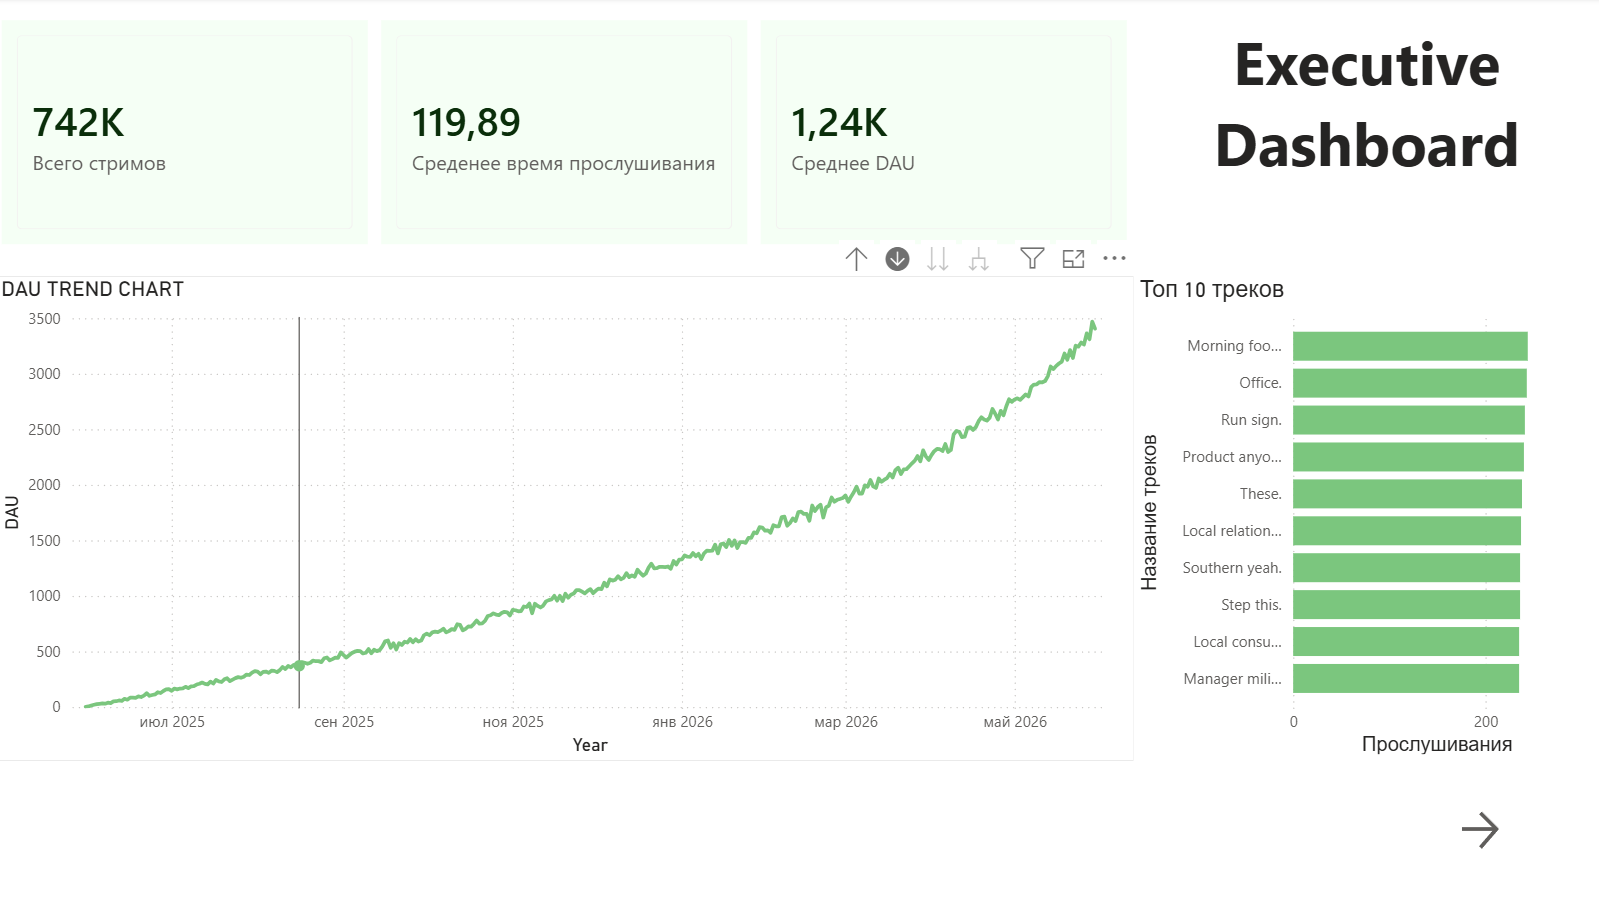

Layout of this report page (visuals, bound fields, positions):
{"tool":"powerbi","page":{"name":"Executive Dashboard","canvas":[1280,720],"ordinal":0},"visuals":[{"type":"cardVisual","fields":{"Data":["ab_test.Total Streams"]},"box":[0,13.2,302.7,189],"z":0},{"type":"cardVisual","fields":{"Data":["Avg(daily_metrics.avg_listen_duration)"]},"box":[302.7,13.2,302.7,189],"z":1000},{"type":"cardVisual","fields":{"Data":["Avg(dau.daily_active_users)"]},"box":[605.3,13.2,302.7,189],"z":2000},{"type":"lineChart","title":"DAU TREND CHART","fields":{"Category":["daily_metrics.event_date.Variation.Date Hierarchy.Year","daily_metrics.event_date.Variation.Date Hierarchy.Quarter","daily_metrics.event_date.Variation.Date Hierarchy.Month","daily_metrics.event_date.Variation.Date Hierarchy.Day"],"Y":["Avg(dau.daily_active_users)"]},"box":[0,222.5,908,386.4],"z":3000},{"type":"textbox","box":[908,13.2,372,189],"z":4000},{"type":"barChart","title":"Топ 10 треков","fields":{"Category":["top_tracks.track_name"],"Y":["Sum(top_tracks.total_plays)"]},"box":[908,222.5,372,386.4],"z":5000},{"type":"actionButton","box":[1164,644.8,100.5,39.5],"z":6000}]}

Visuals, with their boxes in screenshot pixels (x1, y1, x2, y2), scaled from the page's 1280x720 canvas onto the 1599x900 screenshot:
cardVisual - ab_test.Total Streams: {"x1": 0, "y1": 16, "x2": 378, "y2": 253}
cardVisual - Avg(daily_metrics.avg_listen_duration): {"x1": 378, "y1": 16, "x2": 756, "y2": 253}
cardVisual - Avg(dau.daily_active_users): {"x1": 756, "y1": 16, "x2": 1134, "y2": 253}
"DAU TREND CHART" lineChart: {"x1": 0, "y1": 278, "x2": 1134, "y2": 761}
textbox: {"x1": 1134, "y1": 16, "x2": 1598, "y2": 253}
"Топ 10 треков" barChart: {"x1": 1134, "y1": 278, "x2": 1598, "y2": 761}
actionButton: {"x1": 1454, "y1": 806, "x2": 1580, "y2": 855}
